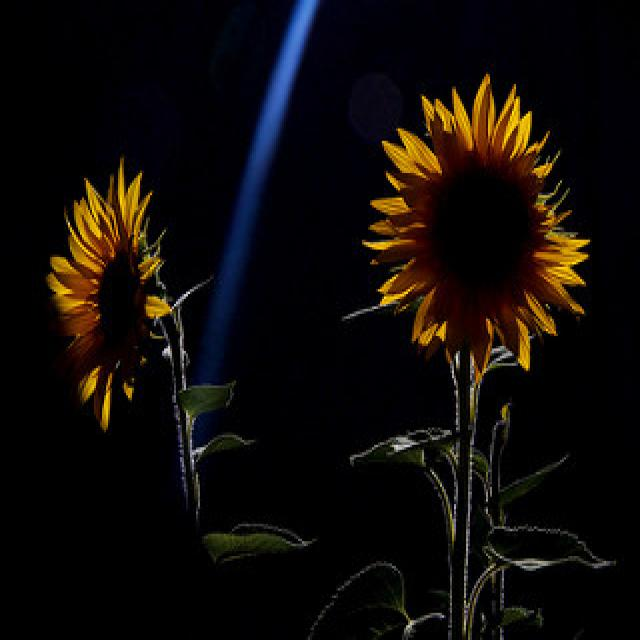sunflower: (360, 57, 596, 383), (47, 152, 175, 429)
